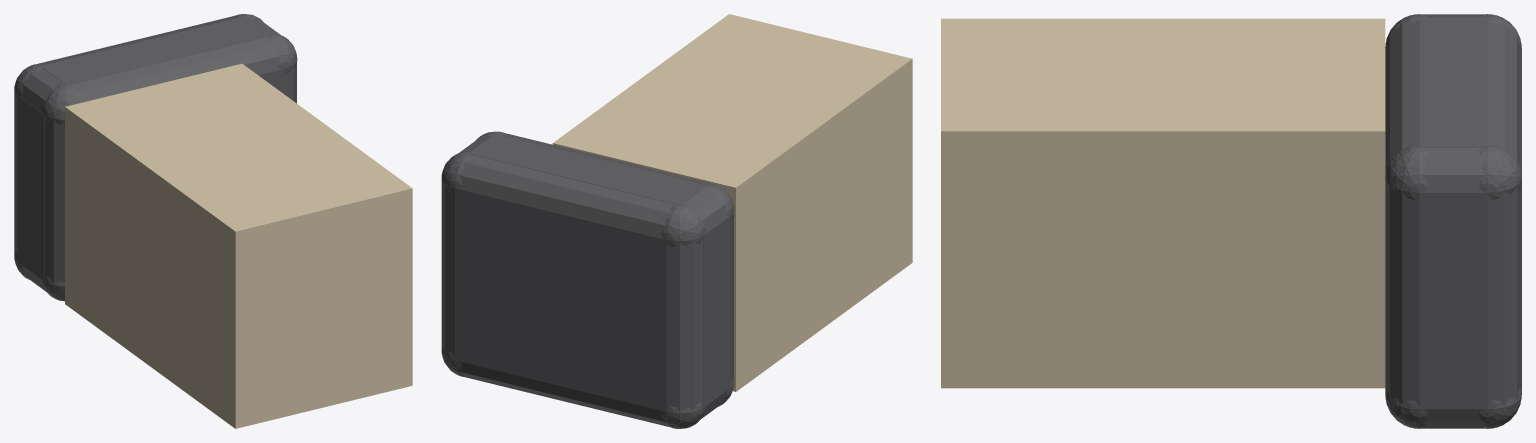
The model's file is shin_right.glb.
3 renders of one model, left to right at view 1: azimuth 30°, elevation 25°; view 2: azimuth 150°, elevation 25°; view 3: azimuth 270°, elevation 25°, orthographic. The views are drawn at different scales.
Parts seen in each view (by area): view 1: shin_right_visual, shoe_right_y_visual, shoe_right_edge3_visual, shoe_right_x_visual, shoe_right_edge5_visual, shoe_right_edge9_visual, shoe_right_edge2_visual, shoe_right_edge4_visual, shoe_right_edge7_visual, shoe_right_edge11_visual; view 2: shin_right_visual, shoe_right_z_visual, shoe_right_edge2_visual, shoe_right_edge4_visual, shoe_right_y_visual, shoe_right_x_visual, shoe_right_edge0_visual, shoe_right_edge6_visual, shoe_right_edge9_visual, shoe_right_edge3_visual, shoe_right_edge5_visual, shoe_right_edge8_visual (+1 smaller); view 3: shin_right_visual, shoe_right_x_visual, shoe_right_y_visual, shoe_right_edge6_visual, shoe_right_edge7_visual, shoe_right_edge2_visual, shoe_right_edge3_visual, shoe_right_edge11_visual, shoe_right_edge10_visual, shoe_right_z_visual, shoe_right_edge1_visual, shoe_right_edge0_visual.
Part boxes in pixels (<box>): shin_right_visual: <box>65,63,412,428</box>; shoe_right_y_visual: <box>41,16,270,85</box>; shoe_right_edge3_visual: <box>41,34,297,124</box>; shoe_right_x_visual: <box>17,95,44,280</box>; shoe_right_edge5_visual: <box>44,84,80,301</box>; shoe_right_edge9_visual: <box>14,64,80,124</box>; shoe_right_edge2_visual: <box>14,14,261,99</box>; shoe_right_edge4_visual: <box>14,64,44,279</box>; shoe_right_edge7_visual: <box>267,33,296,103</box>; shoe_right_edge11_visual: <box>238,14,296,73</box>; shin_right_visual: <box>552,14,912,391</box>; shoe_right_z_visual: <box>455,188,666,411</box>; shoe_right_edge2_visual: <box>441,153,705,245</box>; shoe_right_edge4_visual: <box>665,204,703,428</box>; shoe_right_y_visual: <box>469,134,706,205</box>; shoe_right_x_visual: <box>703,216,730,407</box>; shoe_right_edge0_visual: <box>441,348,705,428</box>; shoe_right_edge6_visual: <box>441,151,472,376</box>; shoe_right_edge9_visual: <box>661,183,734,246</box>; shoe_right_edge3_visual: <box>476,131,734,220</box>; shoe_right_edge5_visual: <box>703,183,733,406</box>; shoe_right_edge8_visual: <box>661,381,734,428</box>; shin_right_visual: <box>941,18,1385,388</box>; shoe_right_x_visual: <box>1419,192,1487,409</box>; shoe_right_y_visual: <box>1419,17,1487,147</box>; shoe_right_edge6_visual: <box>1479,144,1521,428</box>; shoe_right_edge7_visual: <box>1385,144,1428,428</box>; shoe_right_edge2_visual: <box>1478,14,1521,199</box>; shoe_right_edge3_visual: <box>1385,14,1428,199</box>; shoe_right_edge11_visual: <box>1385,147,1521,194</box>; shoe_right_edge10_visual: <box>1385,389,1521,428</box>; shoe_right_z_visual: <box>1385,48,1521,394</box>; shoe_right_edge1_visual: <box>1385,396,1428,428</box>; shoe_right_edge0_visual: <box>1478,395,1521,428</box>.
Bounding box in the file's own units: 0.22 × 0.18 × 0.34.
